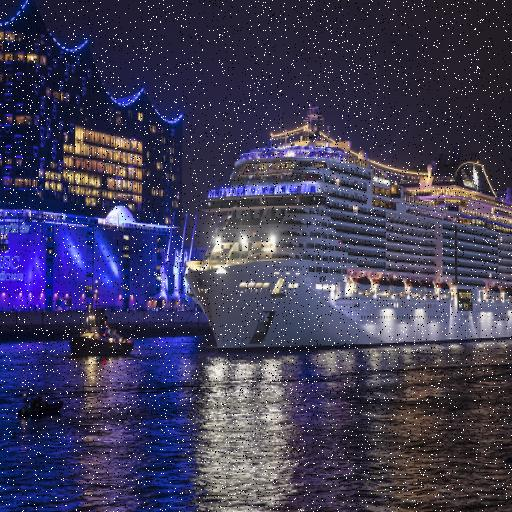cruises: (182, 103, 512, 367)
